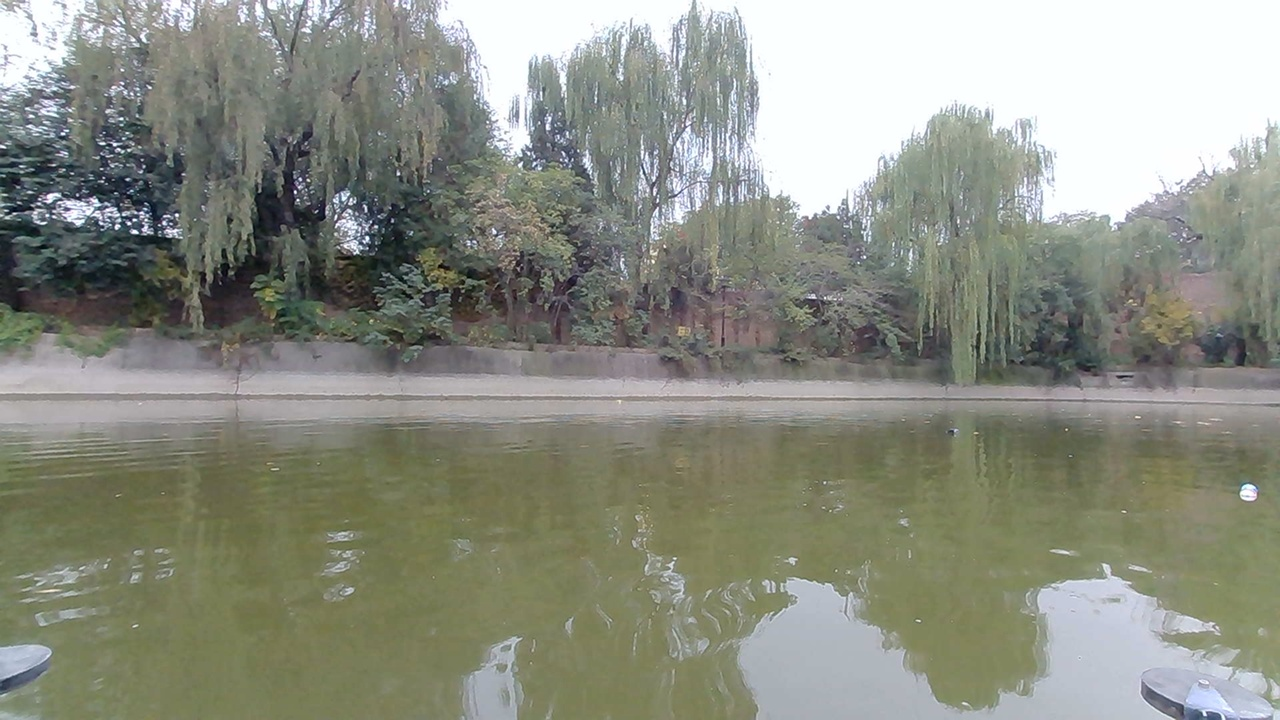bottle: (1228, 477, 1267, 506), (947, 421, 975, 447)
